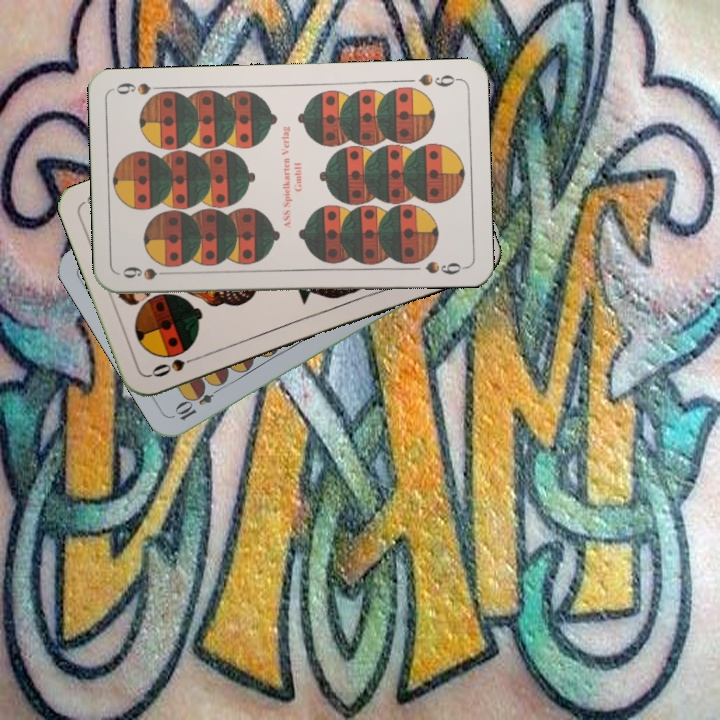E10: (171, 380, 226, 423)
S9: (118, 262, 177, 283), (415, 69, 462, 89)
SO: (146, 352, 204, 380)
